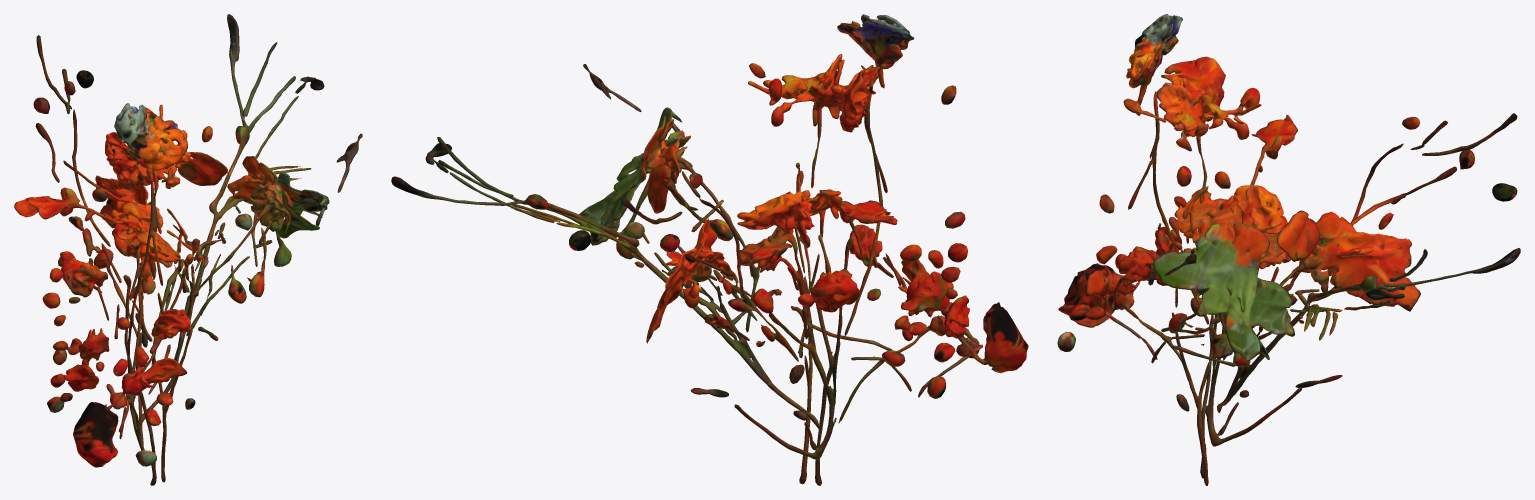
File: shrub0010_dup.gltf
The picture shows the model from 3 angles, left to right: view 1: azimuth 30°, elevation 25°; view 2: azimuth 150°, elevation 25°; view 3: azimuth 270°, elevation 25°; orthographic projection. The views are drawn at different scales.
Visible parts, largest first — view 1: Mesh_0.035; view 2: Mesh_0.035; view 3: Mesh_0.035.
Boxes of the visible parts, x1,y1,x2,y2 form: Mesh_0.035: (14,14,362,485); Mesh_0.035: (391,14,1028,485); Mesh_0.035: (1057,14,1520,485).
Bounding box in the file's own units: 1.98 × 2.02 × 1.91.
1 material, 1 textured.
